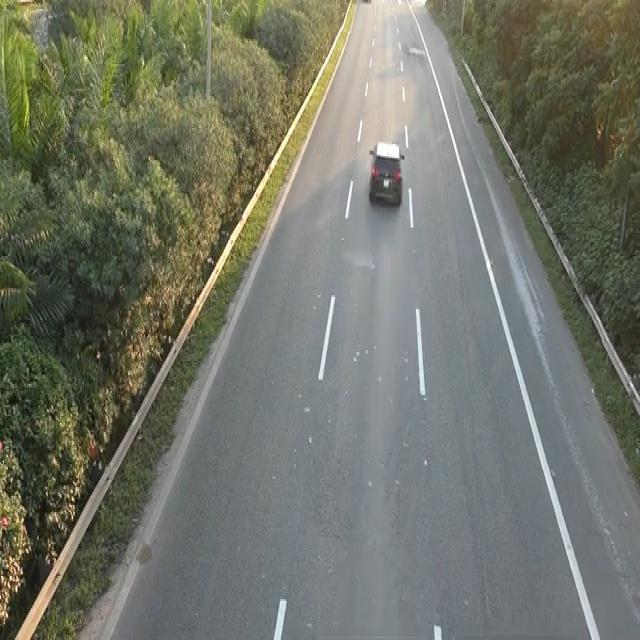car: (367, 137, 405, 206)
